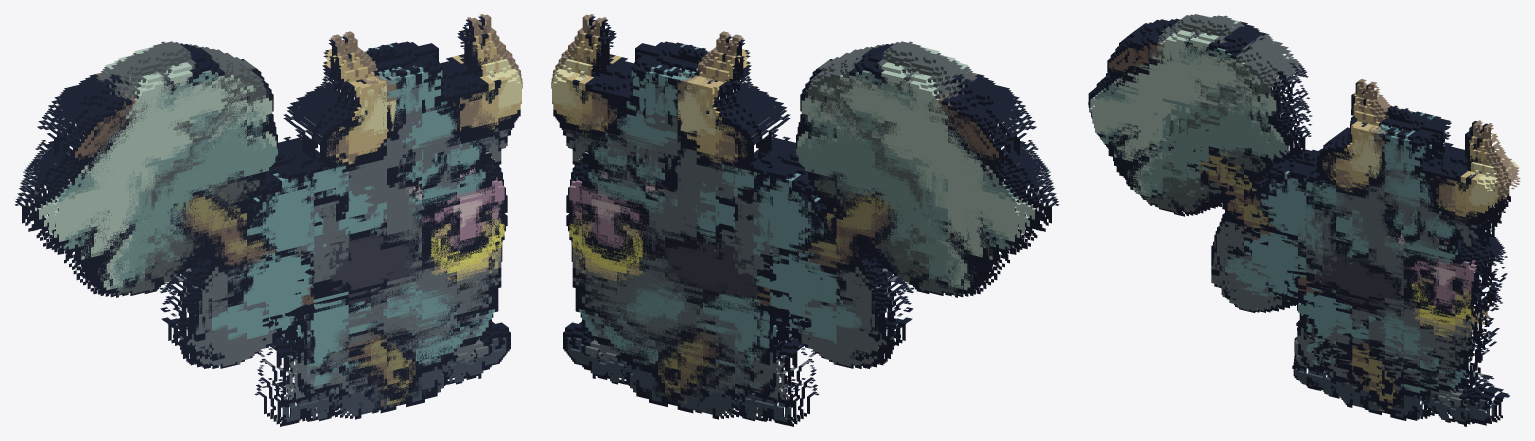
The model's file is minotauro_andando.glb.
3 renders of one model, left to right at view 1: azimuth 30°, elevation 25°; view 2: azimuth 150°, elevation 25°; view 3: azimuth 330°, elevation 25°, orthographic. The views are drawn at different scales.
Parts seen in each view (by area): view 1: q0, q1, q2, q5, q6, q3, q4, q7; view 2: q0, q1, q2, q5, q3, q6, q4, q7; view 3: q1, q0, q2, q5, q6, q3, q4, q7.
Boxes of the visible parts, x1=… form: q0: x1=24, y1=21, x2=517, y2=411; q1: x1=18, y1=14, x2=522, y2=402; q2: x1=14, y1=18, x2=522, y2=413; q5: x1=40, y1=17, x2=504, y2=421; q6: x1=51, y1=21, x2=510, y2=426; q3: x1=28, y1=29, x2=512, y2=414; q4: x1=32, y1=25, x2=507, y2=419; q7: x1=31, y1=77, x2=501, y2=418; q0: x1=556, y1=21, x2=1049, y2=411; q1: x1=551, y1=14, x2=1055, y2=401; q2: x1=551, y1=18, x2=1059, y2=413; q5: x1=566, y1=17, x2=1033, y2=421; q3: x1=559, y1=29, x2=1045, y2=414; q6: x1=563, y1=21, x2=1022, y2=426; q4: x1=563, y1=25, x2=1041, y2=419; q7: x1=571, y1=77, x2=1042, y2=418; q1: x1=1091, y1=14, x2=1520, y2=416; q0: x1=1100, y1=19, x2=1517, y2=422; q2: x1=1088, y1=19, x2=1519, y2=420; q5: x1=1116, y1=15, x2=1508, y2=422; q6: x1=1117, y1=22, x2=1509, y2=423; q3: x1=1100, y1=50, x2=1514, y2=420; q4: x1=1108, y1=17, x2=1511, y2=415; q7: x1=1106, y1=51, x2=1502, y2=426.
Size of the model in its own units: 156 by 122 by 20.
Materials: 1 (1 with a texture image).
